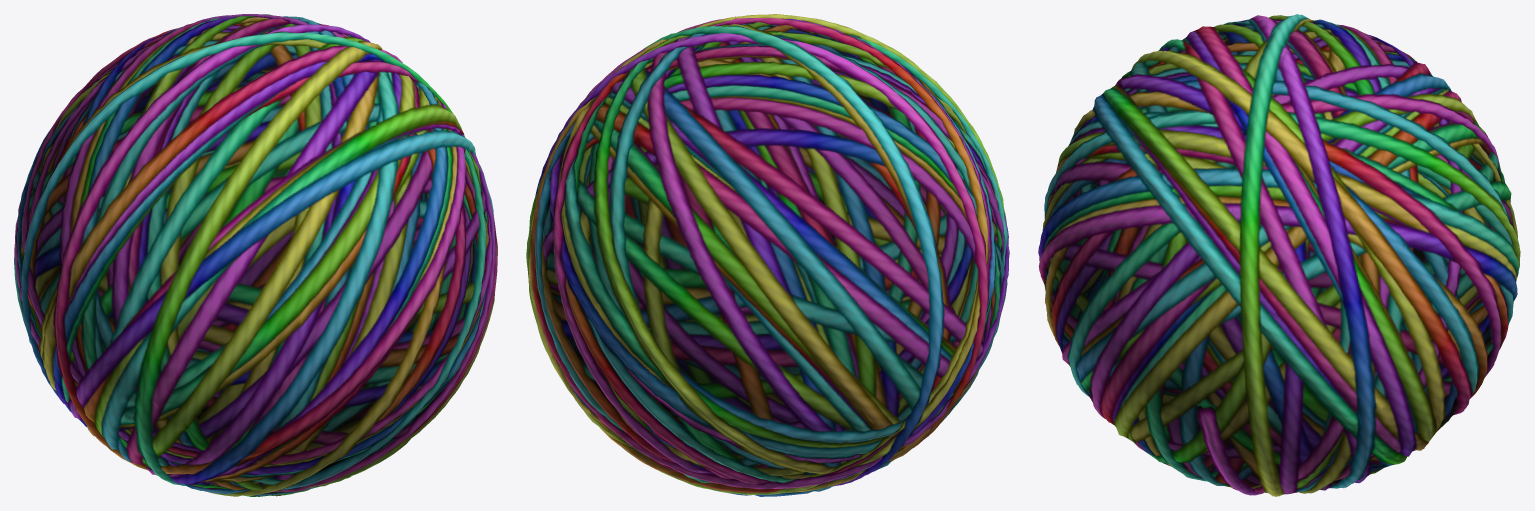
Rendered from yarn_ball (1).glb.
3 views of the same model, side by side, from view 1: azimuth 30°, elevation 25°; view 2: azimuth 150°, elevation 25°; view 3: azimuth 270°, elevation 25° (orthographic).
Parts seen in each view (by area): view 1: SM_Globe6HD_retopo; view 2: SM_Globe6HD_retopo; view 3: SM_Globe6HD_retopo.
Boxes of the visible parts, x1,y1,x2,y2 form: SM_Globe6HD_retopo: (14,14,497,496); SM_Globe6HD_retopo: (526,14,1009,496); SM_Globe6HD_retopo: (1038,14,1520,496).
Size of the model in its own units: 1.03 by 1.03 by 1.03.
1 material, 1 textured.
